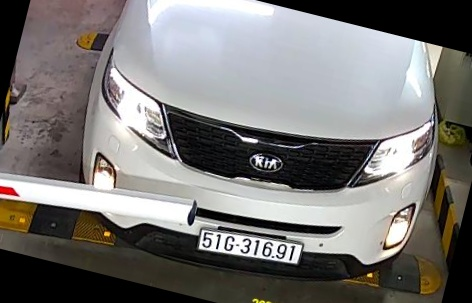plate: (193, 220, 312, 271)
